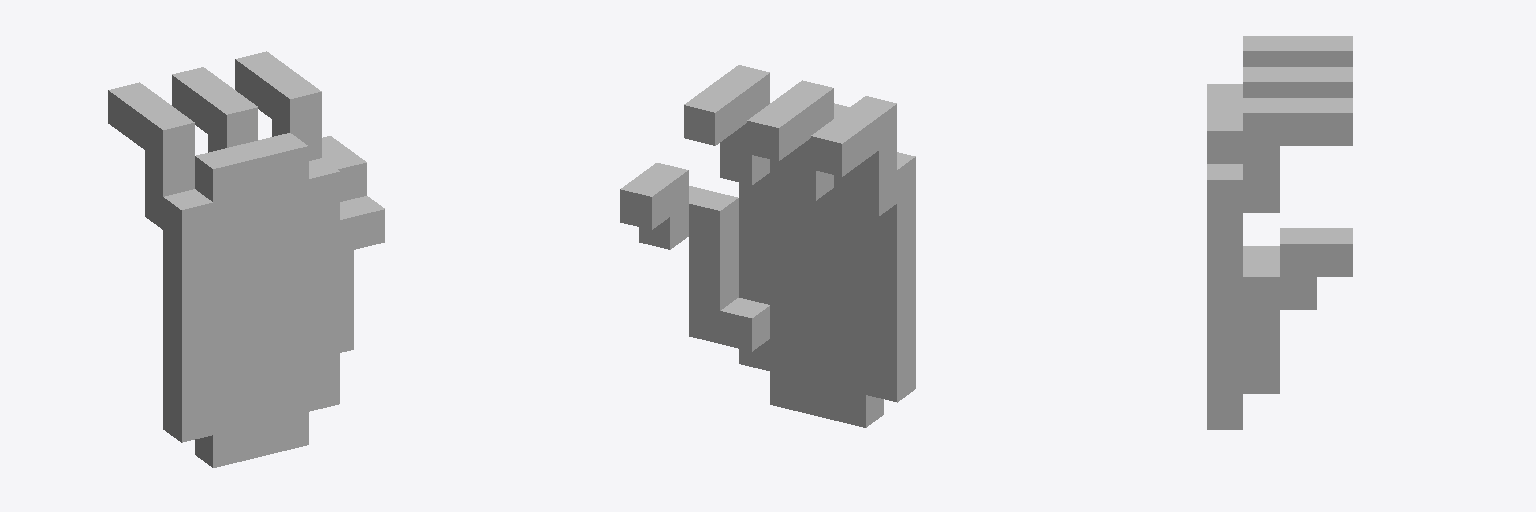
File: ClawLeft.obj
3 renders of one model, left to right at view 1: azimuth 30°, elevation 25°; view 2: azimuth 150°, elevation 25°; view 3: azimuth 270°, elevation 25°, orthographic.
Visible parts, largest first — view 1: cube; view 2: cube; view 3: cube.
Part boxes in pixels (left/top/right/bottom): cube: left=108, top=51, right=384, bottom=467; cube: left=620, top=65, right=915, bottom=427; cube: left=1207, top=36, right=1352, bottom=429.
Size of the model in its own units: 7 by 10 by 4.